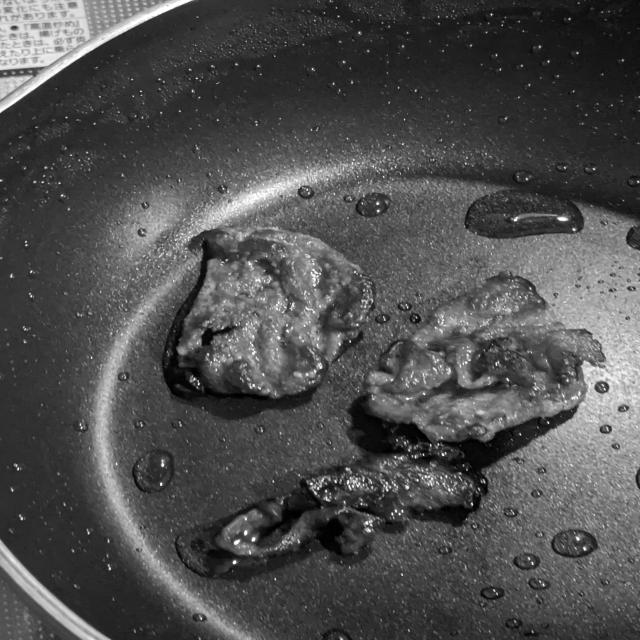overcooked pork: (357, 265, 611, 454), (160, 224, 394, 406), (206, 437, 498, 570)
